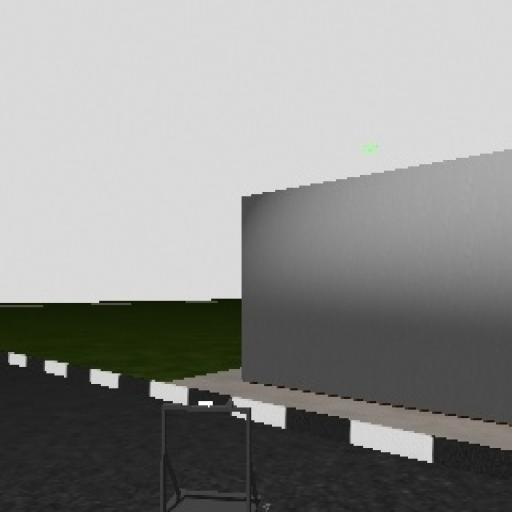huskya200: (147, 393, 292, 512)
